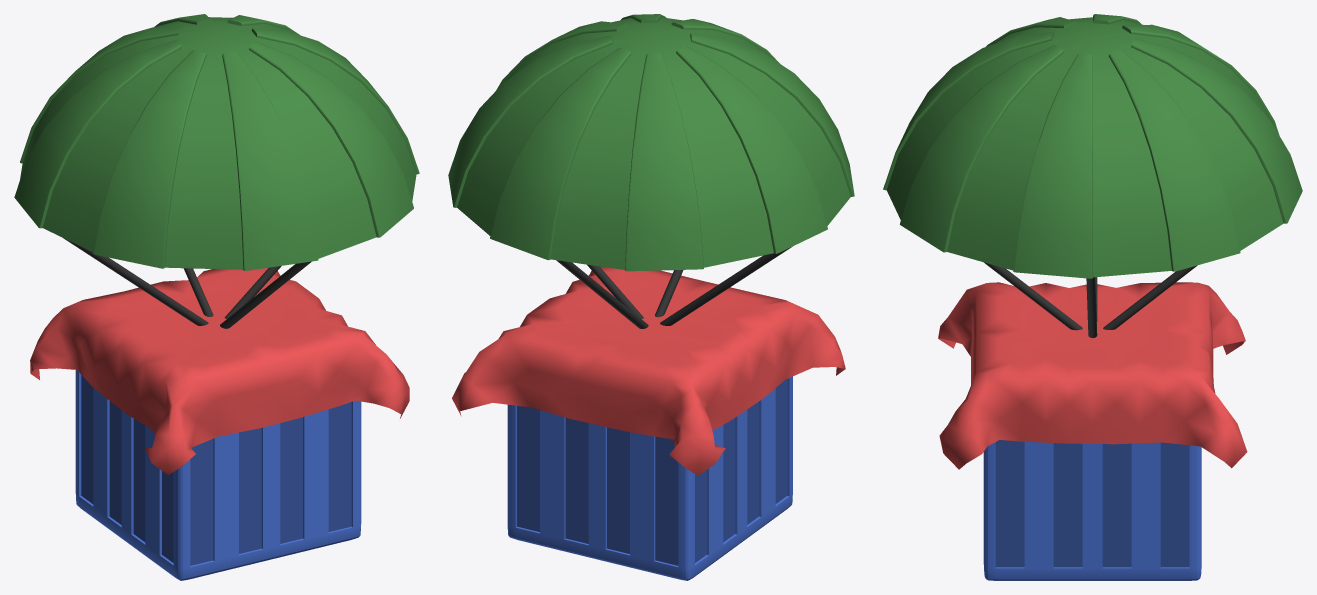
File: Airdrop 1.fbx
3 renders of one model, left to right at view 1: azimuth 30°, elevation 25°; view 2: azimuth 150°, elevation 25°; view 3: azimuth 270°, elevation 25°, orthographic. The views are drawn at different scales.
Visible parts, largest first — view 1: Sphere, container.001; view 2: Sphere, container.001; view 3: Sphere, container.001.
Boxes of the visible parts, x1=… form: Sphere: x1=14, y1=14, x2=419, y2=328; container.001: x1=30, y1=267, x2=409, y2=580; Sphere: x1=448, y1=14, x2=854, y2=328; container.001: x1=452, y1=266, x2=845, y2=580; Sphere: x1=883, y1=14, x2=1302, y2=337; container.001: x1=938, y1=282, x2=1247, y2=580.
Bounding box in the file's own units: 1815 × 2385 × 1815.
